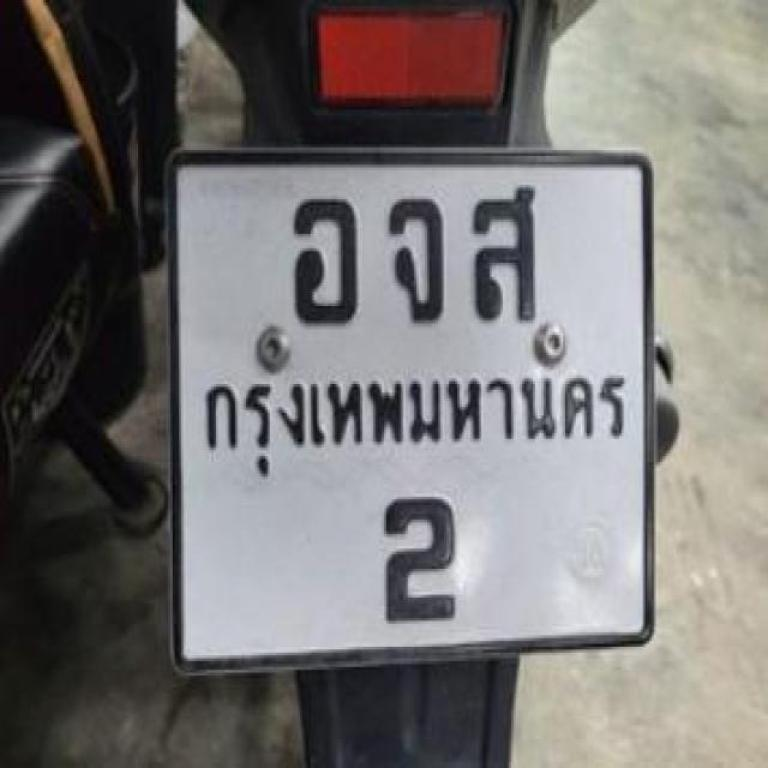license plate: (169, 148, 656, 672)
